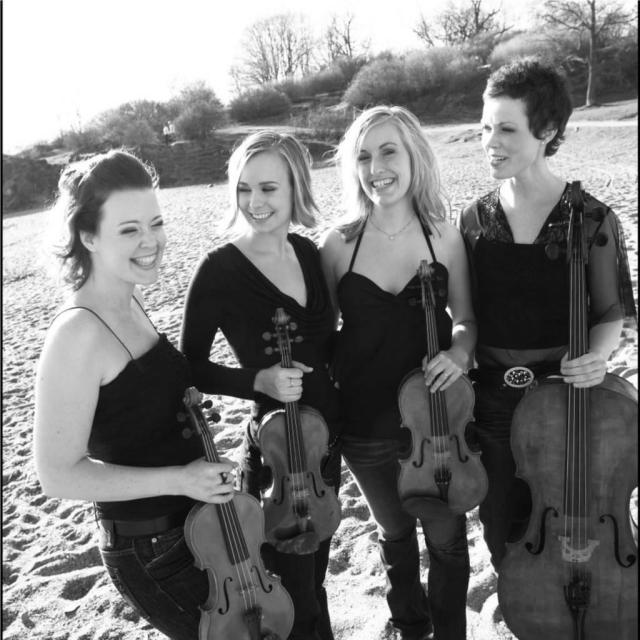cello: (494, 178, 640, 639)
violin: (182, 382, 291, 638), (396, 258, 494, 525), (251, 308, 350, 555)
